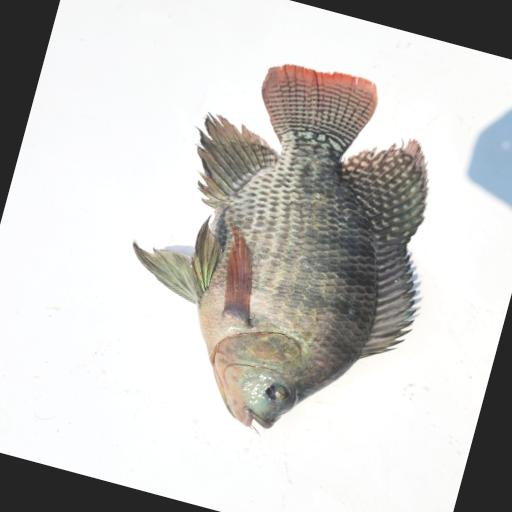Tilapia: (94, 31, 473, 463)
